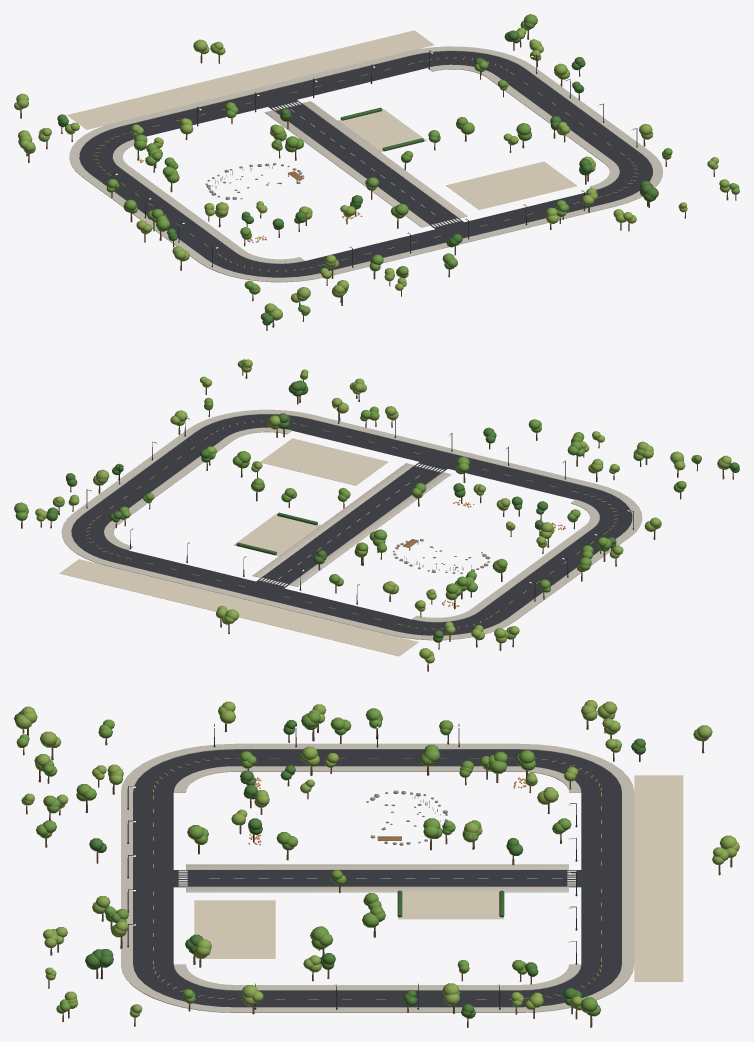
The model's file is district.glb.
3 views of the same model, one above another, from view 1: azimuth 30°, elevation 25°; view 2: azimuth 150°, elevation 25°; view 3: azimuth 270°, elevation 25° (orthographic). The views are drawn at different scales.
Visible parts, largest first — view 1: roads, sidewalks, plazas, tree_leaf_c, tree_leaf_b, tree_leaf_a, tree_trunks; view 2: roads, sidewalks, plazas, tree_leaf_c, tree_leaf_b, tree_leaf_a, tree_trunks; view 3: roads, sidewalks, plazas, tree_leaf_c, tree_leaf_b, tree_leaf_a, tree_trunks, lamp_posts.
Part boxes in pixels (x1,y1,x2,y2): roads: (79, 51, 652, 277); sidewalks: (69, 46, 662, 282); plazas: (67, 30, 577, 209); tree_leaf_c: (14, 27, 730, 320); tree_leaf_b: (106, 14, 739, 315); tree_leaf_a: (57, 30, 658, 325); tree_trunks: (20, 30, 736, 330); roads: (71, 414, 632, 635); sidewalks: (61, 409, 642, 640); plazas: (59, 438, 418, 656); tree_leaf_c: (35, 359, 731, 663); tree_leaf_b: (14, 359, 701, 600); tree_leaf_a: (46, 380, 739, 642); tree_trunks: (21, 371, 733, 671); roads: (133, 749, 621, 1007); sidewalks: (121, 743, 634, 1012); plazas: (194, 775, 683, 981); tree_leaf_c: (15, 700, 739, 1017); tree_leaf_b: (16, 708, 600, 1016); tree_leaf_a: (14, 710, 645, 1018); tree_trunks: (22, 720, 732, 1027); lamp_posts: (127, 723, 577, 1009).
Size of what is drawn, in the model's own units: 178 by 9.17 by 178.
